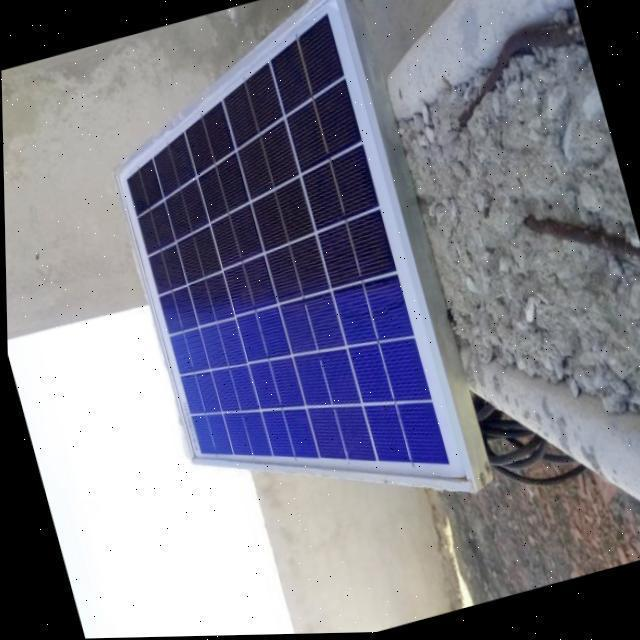Normal Solar Panel: (79, 0, 471, 561)
